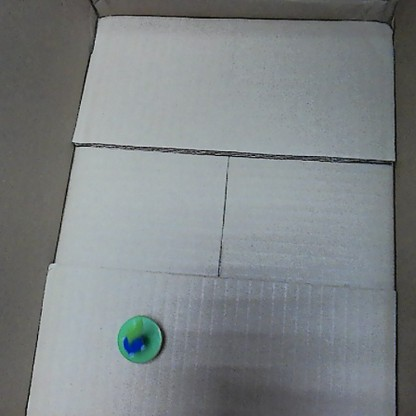leafairy: (113, 310, 165, 366)
